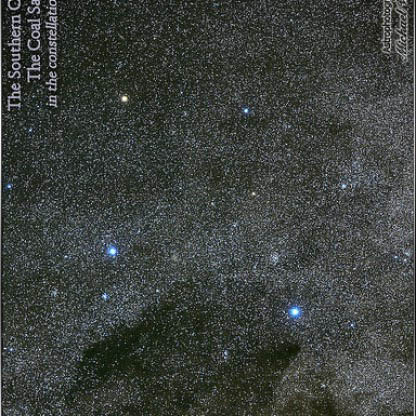Southern Cross: (97, 234, 130, 272), (112, 84, 136, 115), (231, 99, 263, 122), (280, 300, 303, 325)
